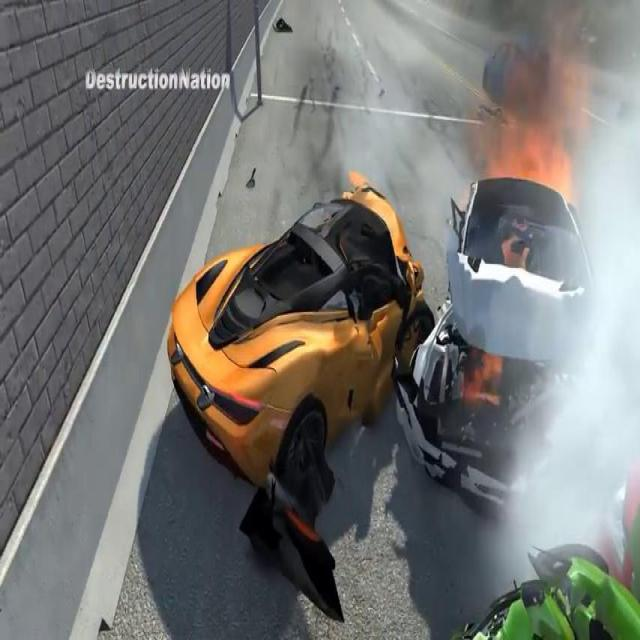severe: (158, 158, 614, 526)
